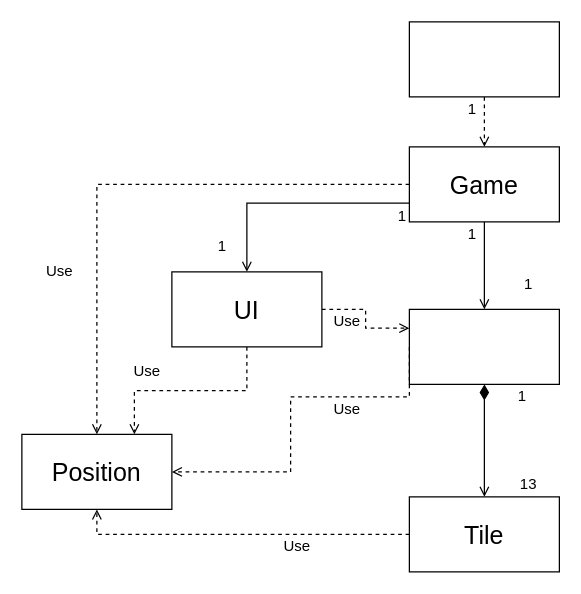
Some shapes in this 581 by 594 pixel diagram are drawn without their labels. The centre of each missing label's shape, as x and y in pixels:
Board: point (483, 346)
Program: point (483, 59)
